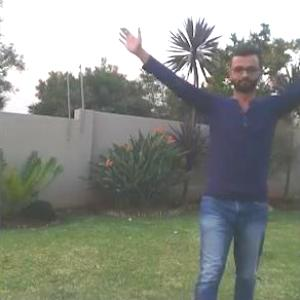takeoff: (131, 31, 299, 297)
